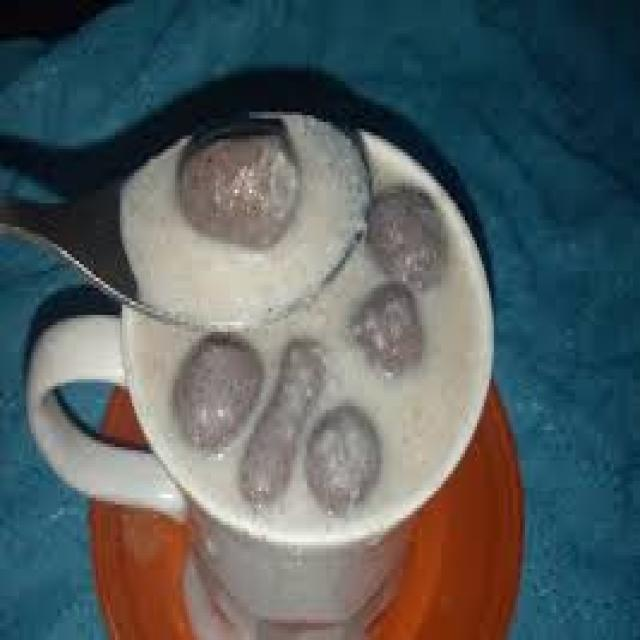paal kolukattai: (131, 84, 484, 516)
